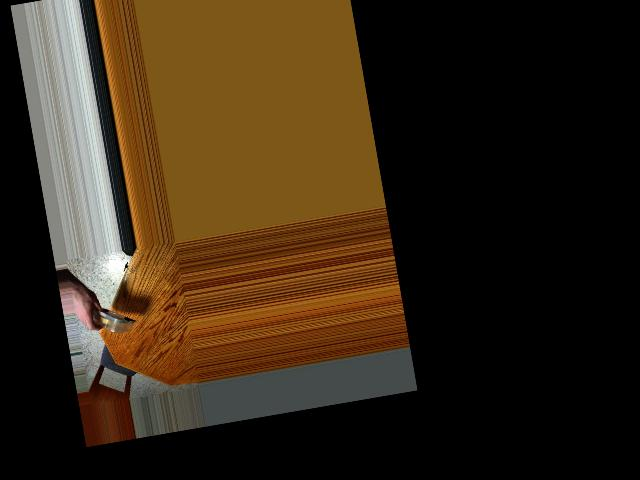cheese: (89, 303, 136, 338)
